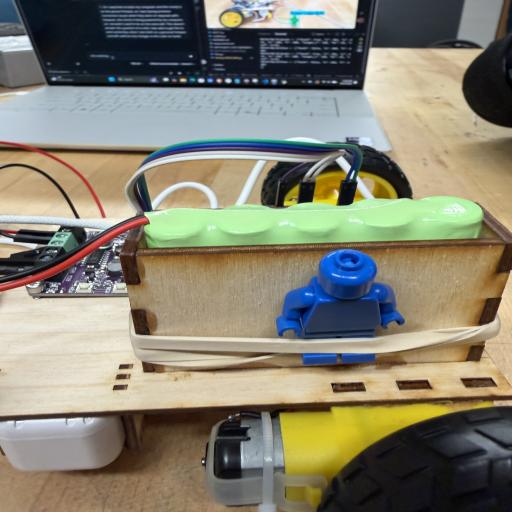Blue-Lego: (300, 250, 404, 338), (303, 353, 337, 365)
